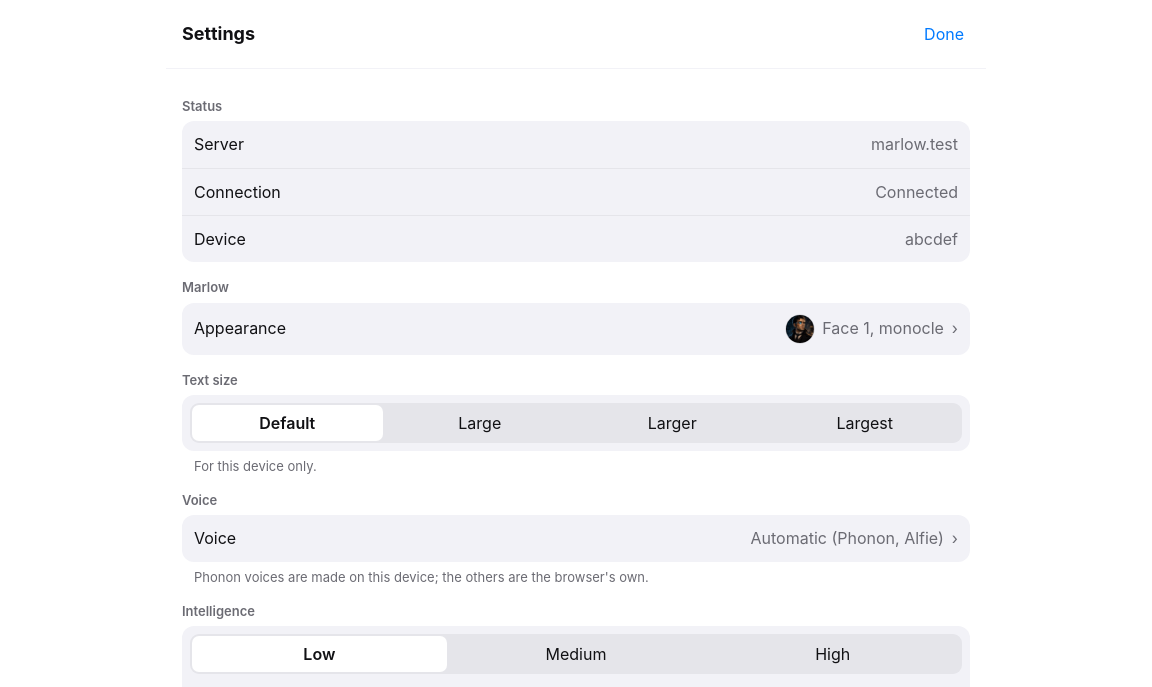
it: Settings › Voice › Phonon › labels Automatic as the device voice when a stored voice has gone, as voice mode reads it
This screenshot has width=1152, height=687.
Step 1. Click the button "Voice Automatic (Phonon, Alfie)" → (215, 538), box left=182, top=515, right=970, bottom=562
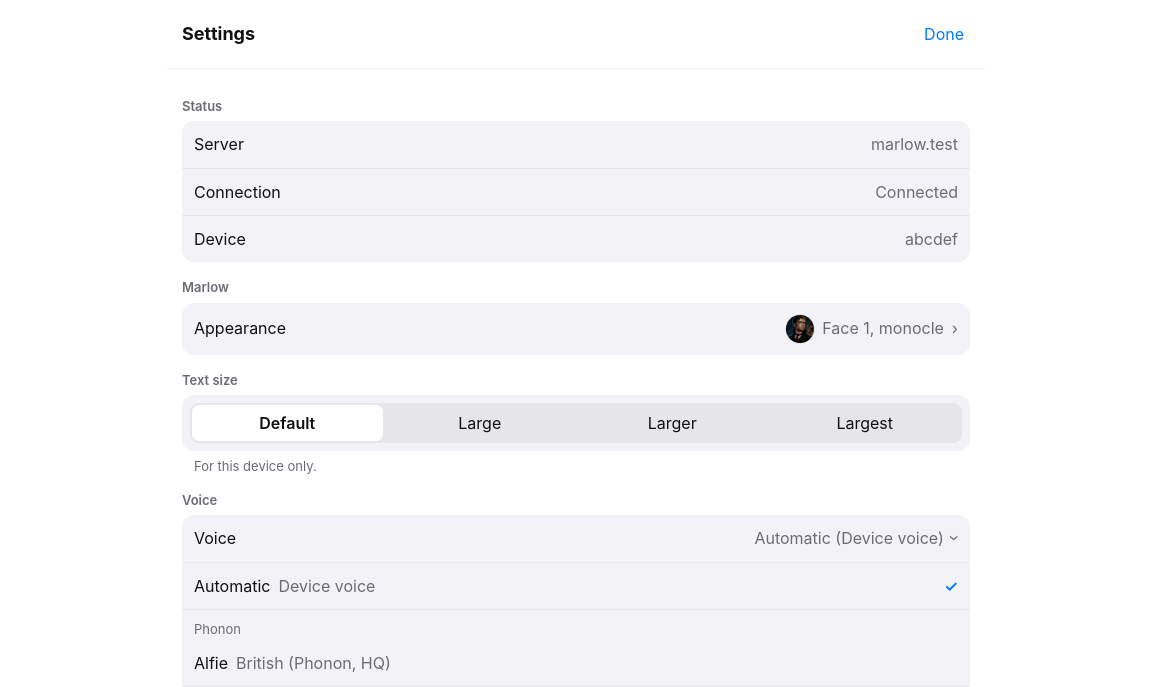
Expected: the radio button labelled "Automatic Device voice" is shown, left=182, top=562, right=970, bottom=609
